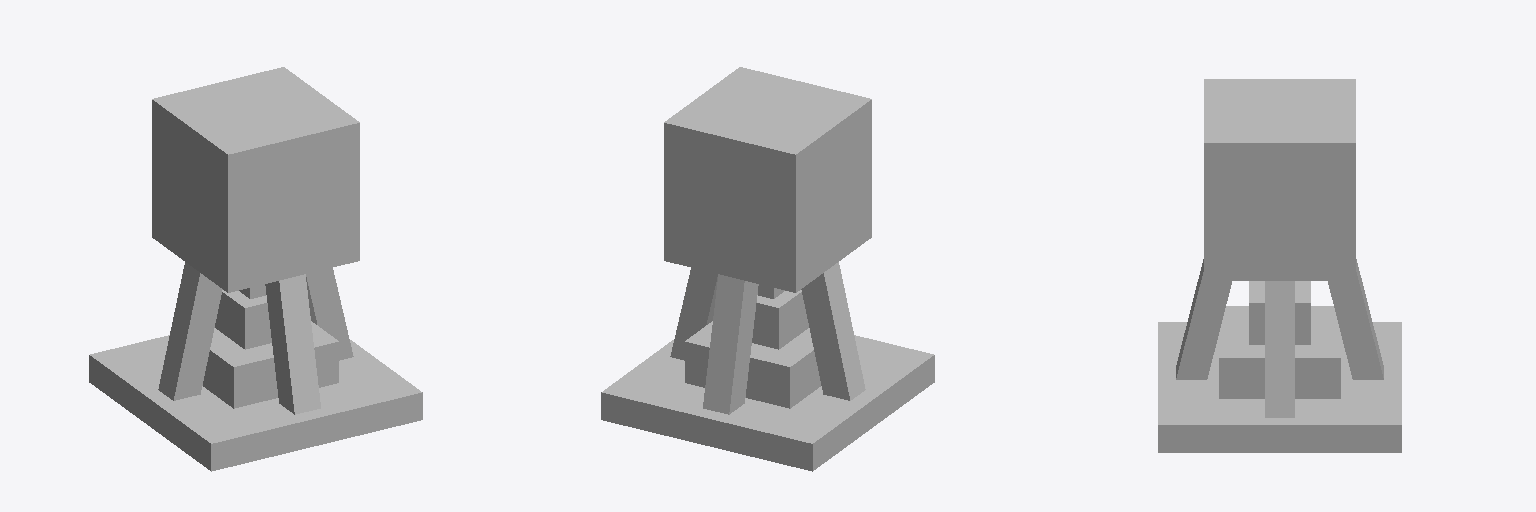
File: modelmasterroutingnodecombined.obj
3 views of the same model, side by side, from view 1: azimuth 30°, elevation 25°; view 2: azimuth 150°, elevation 25°; view 3: azimuth 270°, elevation 25° (orthographic).
Parts seen in each view (by area): view 1: ModelMasterRoutingNodeBase, ModelMasterRoutingNodeCore; view 2: ModelMasterRoutingNodeBase, ModelMasterRoutingNodeCore; view 3: ModelMasterRoutingNodeBase, ModelMasterRoutingNodeCore.
Boxes of the visible parts, x1,y1,x2,y2 form: ModelMasterRoutingNodeBase: [89, 262, 422, 471]; ModelMasterRoutingNodeCore: [152, 67, 359, 292]; ModelMasterRoutingNodeBase: [601, 262, 934, 471]; ModelMasterRoutingNodeCore: [664, 67, 871, 292]; ModelMasterRoutingNodeBase: [1158, 259, 1401, 452]; ModelMasterRoutingNodeCore: [1204, 79, 1355, 280].
Size of the model in its own units: 0.5 by 0.6562 by 0.5.